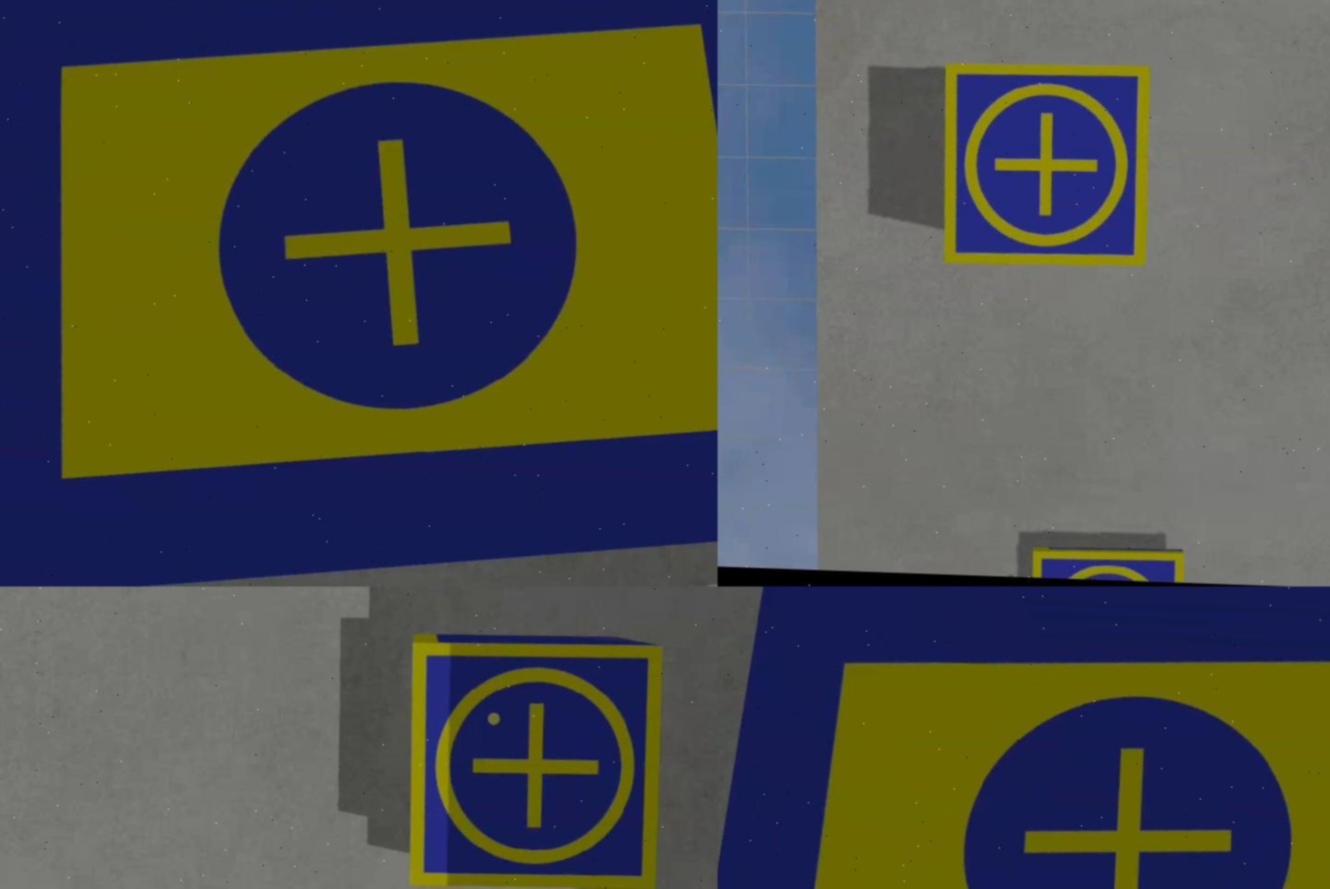large_base: (1, 1, 718, 587), (718, 587, 1330, 889)
small_base: (405, 639, 661, 889), (935, 59, 1158, 271), (1029, 541, 1187, 587)
